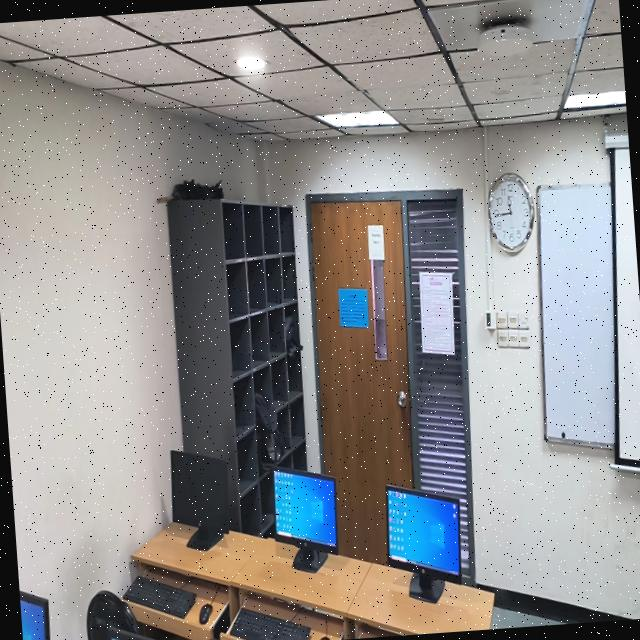Chair: (85, 589, 138, 640)
Keyboard: (122, 575, 195, 617), (228, 606, 309, 640)
Light: (561, 89, 626, 113), (315, 108, 397, 127), (235, 54, 264, 70)
Monitor: (384, 484, 460, 602), (272, 466, 336, 571), (169, 449, 229, 548), (18, 589, 48, 640), (107, 626, 157, 640)
Mouse: (198, 603, 211, 622), (318, 634, 328, 640)
